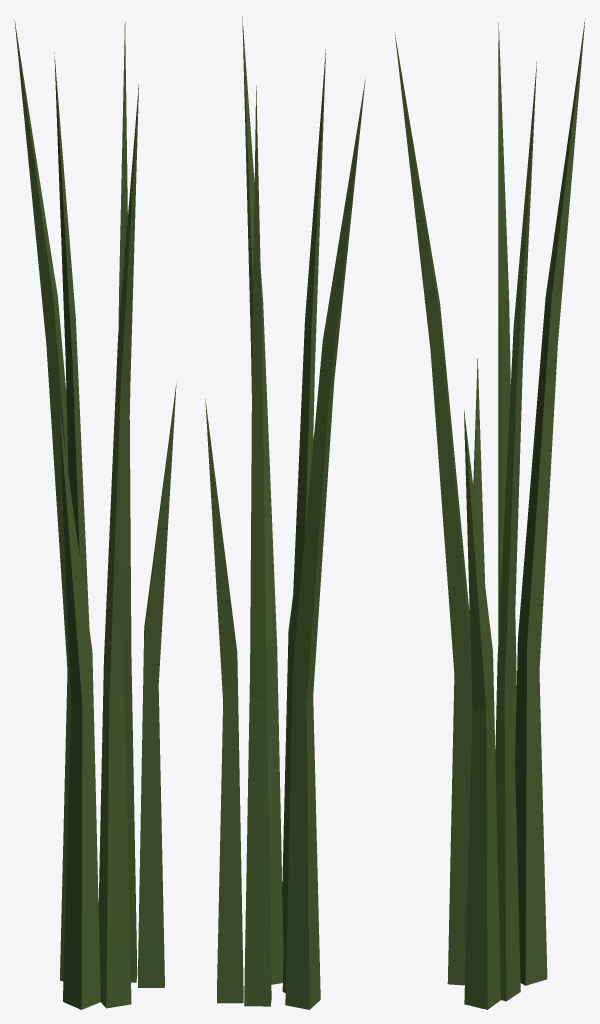
The model's file is High Grass_1.fbx.
The picture shows the model from 3 angles, left to right: view 1: azimuth 30°, elevation 25°; view 2: azimuth 210°, elevation 25°; view 3: azimuth 270°, elevation 25°; orthographic projection.
Parts seen in each view (by area): view 1: High Grass_1; view 2: High Grass_1; view 3: High Grass_1.
Boxes of the visible parts, x1,y1,x2,y2 form: High Grass_1: [14, 20, 176, 1009]; High Grass_1: [205, 16, 365, 1009]; High Grass_1: [394, 18, 585, 1009].
Bounding box in the file's own units: 0.3025 × 2.47 × 0.4521.
